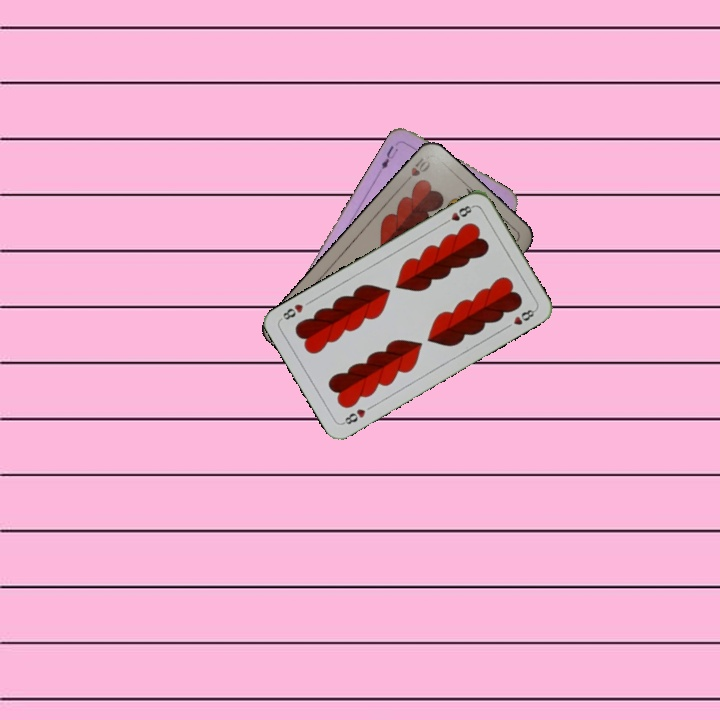EU: (377, 141, 401, 172)
H10: (399, 153, 433, 187)
H8: (439, 201, 476, 227), (338, 405, 368, 427)
